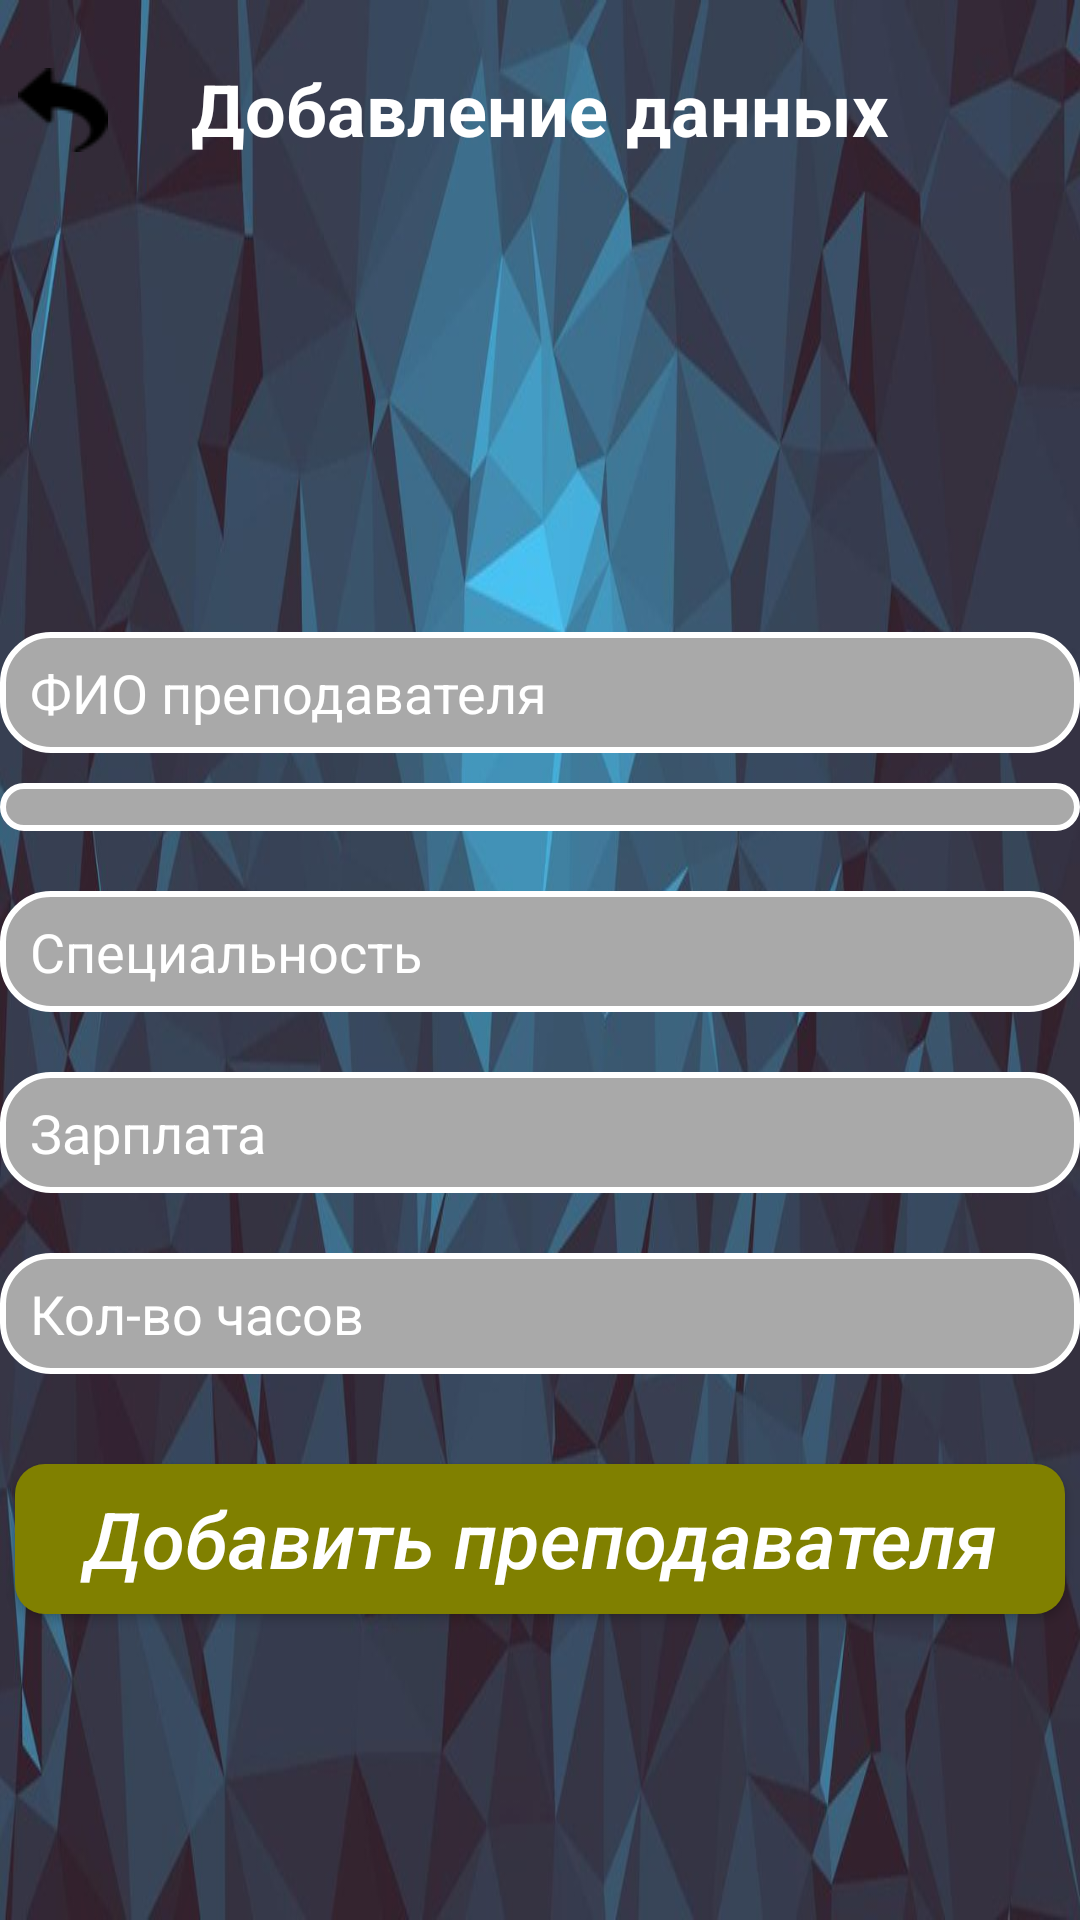

Named icons in this screenshot (1080px×1920px) and their centers, [x,y]:
back: [69,110]
